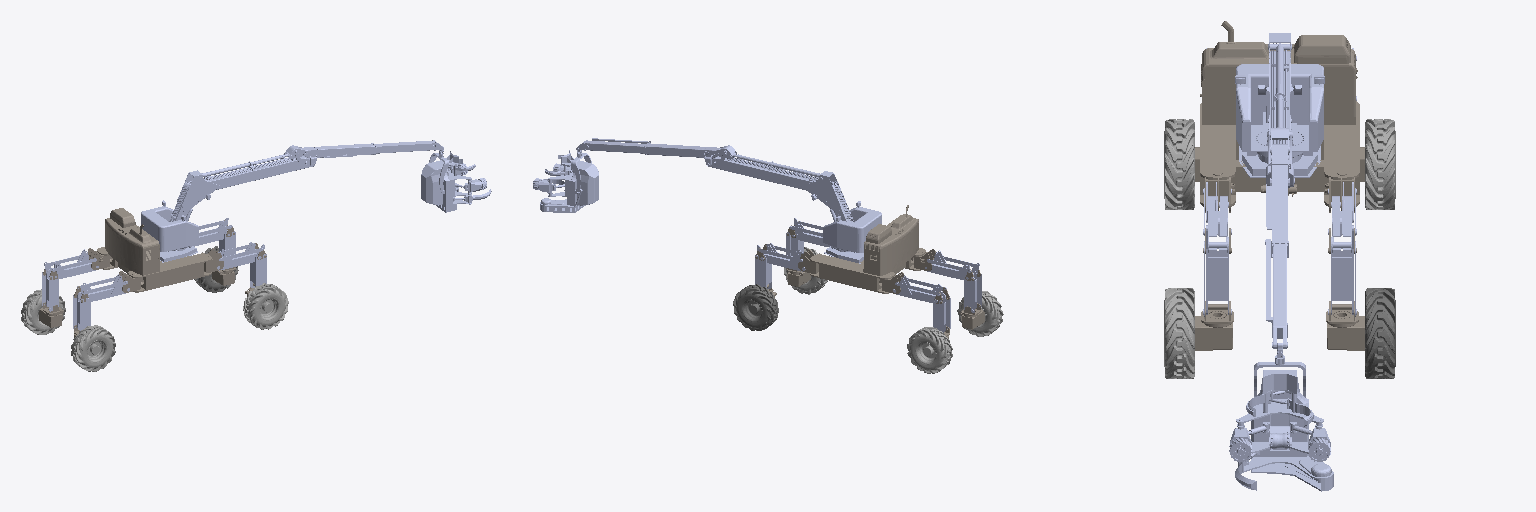
--- Facts derived from the render (not from the file) ---
3 views of the same robot in one strip: view 1: azimuth 30°, elevation 25°; view 2: azimuth 150°, elevation 25°; view 3: azimuth 270°, elevation 25° (orthographic).
Robot: forestry_description — 55 links, 54 joints (47 revolute, 4 continuous, 1 prismatic, 2 fixed); root link world; default pose: all joints at 0.
Links seen in each view (by area): view 1: base_link, boom_Link, tool_Link, turntable_Link, FR5, RR5, RL5, s_boom_Link, s_arm_Link; view 2: base_link, boom_Link, tool_Link, turntable_Link, RL5, FL5, RR5, s_boom_Link, s_arm_Link; view 3: base_link, tool_Link, turntable_Link, FR5, FL5, RL5, RR5, boom_Link, s_boom_Link, s_arm_Link, FR3, FL3 (+7 smaller).
Boxes of the visible links, x1=… form: base_link: x1=97, y1=208, x2=211, y2=292; boom_Link: x1=169, y1=145, x2=314, y2=221; tool_Link: x1=421, y1=151, x2=491, y2=212; turntable_Link: x1=141, y1=200, x2=198, y2=251; FR5: x1=243, y1=283, x2=288, y2=329; RR5: x1=71, y1=325, x2=115, y2=371; RL5: x1=21, y1=289, x2=65, y2=334; s_boom_Link: x1=300, y1=143, x2=378, y2=166; s_arm_Link: x1=375, y1=140, x2=443, y2=153; base_link: x1=810, y1=205, x2=925, y2=293; boom_Link: x1=707, y1=145, x2=853, y2=222; tool_Link: x1=533, y1=150, x2=598, y2=212; turntable_Link: x1=823, y1=200, x2=881, y2=252; RL5: x1=907, y1=327, x2=952, y2=373; FL5: x1=733, y1=284, x2=778, y2=330; RR5: x1=957, y1=291, x2=1003, y2=336; s_boom_Link: x1=644, y1=141, x2=720, y2=166; s_arm_Link: x1=576, y1=138, x2=650, y2=153; base_link: x1=1200, y1=21, x2=1359, y2=207; tool_Link: x1=1229, y1=370, x2=1333, y2=491; turntable_Link: x1=1235, y1=64, x2=1324, y2=151; FR5: x1=1164, y1=288, x2=1194, y2=378; FL5: x1=1365, y1=288, x2=1395, y2=378; RL5: x1=1365, y1=119, x2=1395, y2=209; RR5: x1=1164, y1=119, x2=1194, y2=209; boom_Link: x1=1258, y1=33, x2=1301, y2=187; s_boom_Link: x1=1265, y1=144, x2=1293, y2=257; s_arm_Link: x1=1266, y1=239, x2=1287, y2=348; FR3: x1=1204, y1=225, x2=1228, y2=314; FL3: x1=1331, y1=225, x2=1355, y2=314.
Bounding box of the posed robot: 14.77 × 3.4 × 4.82 m (x, y, z).
54 mesh visuals loaded from 54 distinct referenced files (54 binary STL).

URDF robot description (forestry_description):
<?xml version="1.0" encoding="utf-8"?>
<!-- This URDF was automatically created by SolidWorks to URDF Exporter! Originally created by Stephen Brawner ([email redacted]) 
     Commit Version: 1.5.1-0-g916b5db  Build Version: 1.5.7152.31018
     For more information, please see http://wiki.ros.org/sw_urdf_exporter -->
<robot
  name="forestry_description">

  <link name="world" />
  
  <link
    name="base_link">
    <inertial>
      <origin
        xyz="-0.54031917901198 0.00109713101080256 0.33647383677463"
        rpy="0 0 0" />
      <mass
        value="4741.94930567749" />
      <inertia
        ixx="2748.1155050838"
        ixy="-2.93102873529126"
        ixz="4.3176272224981"
        iyy="2245.24102293317"
        iyz="-12.8937323800502"
        izz="4571.24460469902" />
    </inertial>
    <visual>
      <origin
        xyz="0 0 0"
        rpy="0 0 0" />
      <geometry>
        <mesh
          filename="package://forestry_description/meshes/base_link.STL" />
      </geometry>
      <material
        name="">
        <color
          rgba="0.650980392156863 0.619607843137255 0.588235294117647 1" />
      </material>
    </visual>
    <collision>
      <origin
        xyz="0 0 0"
        rpy="0 0 0" />
      <geometry>
        <mesh
          filename="package://forestry_description/meshes/base_link.STL" />
      </geometry>
    </collision>
  </link>


  <joint name="world_to_base" type="fixed">
    <parent link="world" />
    <child link="base_link" />
  </joint>



  <link
    name="FR1">
    <inertial>
      <origin
        xyz="0.128459885744936 0.00404827021732312 0.0225620718217145"
        rpy="0 0 0" />
      <mass
        value="184.045000703748" />
      <inertia
        ixx="6.76503431022354"
        ixy="-0.0457434022888719"
        ixz="-0.514591277300397"
        iyy="7.97145218183556"
        iyz="-0.0383922185966743"
        izz="7.5357686897527" />
    </inertial>
    <visual>
      <origin
        xyz="0 0 0"
        rpy="0 0 0" />
      <geometry>
        <mesh
          filename="package://forestry_description/meshes/FR1.STL" />
      </geometry>
      <material
        name="">
        <color
          rgba="0.650980392156863 0.619607843137255 0.588235294117647 1" />
      </material>
    </visual>
    <collision>
      <origin
        xyz="0 0 0"
        rpy="0 0 0" />
      <geometry>
        <mesh
          filename="package://forestry_description/meshes/FR1.STL" />
      </geometry>
    </collision>
  </link>
  <joint
    name="FRJ1"
    type="revolute">
    <origin
      xyz="0.94 -0.9125 0.2"
      rpy="0 0 0" />
    <parent
      link="base_link" />
    <child
      link="FR1" />
    <axis
      xyz="0 0 1" />
    <limit
      lower="-0.785398"
      upper="0.5235987"
      effort="0"
      velocity="0" />
  </joint>
  <link
    name="FR2">
    <inertial>
      <origin
        xyz="0.588774137911626 0.040851108568861 0.020284900090472"
        rpy="0 0 0" />
      <mass
        value="36.5845458368152" />
      <inertia
        ixx="1.0087105677874"
        ixy="-0.0947398441532115"
        ixz="0.263965807523486"
        iyy="7.61553593486858"
        iyz="-0.0240436699181846"
        izz="7.61601085721198" />
    </inertial>
    <visual>
      <origin
        xyz="0 0 0"
        rpy="0 0 0" />
      <geometry>
        <mesh
          filename="package://forestry_description/meshes/FR2.STL" />
      </geometry>
      <material
        name="">
        <color
          rgba="0.792156862745098 0.819607843137255 0.933333333333333 1" />
      </material>
    </visual>
    <collision>
      <origin
        xyz="0 0 0"
        rpy="0 0 0" />
      <geometry>
        <mesh
          filename="package://forestry_description/meshes/FR2.STL" />
      </geometry>
    </collision>
  </link>
  <joint
    name="FRJ2"
    type="revolute">
    <origin
      xyz="0.3 0.01 -0.11"
      rpy="1.5708 0 0" />
    <parent
      link="FR1" />
    <child
      link="FR2" />
    <axis
      xyz="0 0 1" />
    <limit
      lower="-0.9599308"
      upper="0.9599308"
      effort="0"
      velocity="0" />
  </joint>
  <link
    name="FR3">
    <inertial>
      <origin
        xyz="0.00356383701771801 -0.427150481599804 0.00435955283819156"
        rpy="0 0 0" />
      <mass
        value="22.9329517084687" />
      <inertia
        ixx="2.1622683407372"
        ixy="-0.0522323144372039"
        ixz="1.8153638825174E-18"
        iyy="0.164045827211877"
        iyz="-7.52108575078556E-17"
        izz="2.13893902934875" />
    </inertial>
    <visual>
      <origin
        xyz="0 0 0"
        rpy="0 0 0" />
      <geometry>
        <mesh
          filename="package://forestry_description/meshes/FR3.STL" />
      </geometry>
      <material
        name="">
        <color
          rgba="0.792156862745098 0.819607843137255 0.933333333333333 1" />
      </material>
    </visual>
    <collision>
      <origin
        xyz="0 0 0"
        rpy="0 0 0" />
      <geometry>
        <mesh
          filename="package://forestry_description/meshes/FR3.STL" />
      </geometry>
    </collision>
  </link>
  <joint
    name="FRJ3"
    type="revolute">
    <origin
      xyz="1.4 0 0.0125"
      rpy="0 0 0" />
    <parent
      link="FR2" />
    <child
      link="FR3" />
    <axis
      xyz="0 0 1" />
    <limit
      lower="-0.9599308"
      upper="0.9599308"
      effort="0"
      velocity="0" />
  </joint>
  <link
    name="FR4_1">
    <inertial>
      <origin
        xyz="2.97539770599542E-14 -1.38333788868295E-13 0.00616336110124471"
        rpy="0 0 0" />
      <mass
        value="16.5024333560923" />
      <inertia
        ixx="0.244638564571836"
        ixy="-4.7757941027684E-18"
        ixz="9.54943185721751E-18"
        iyy="0.244638564571836"
        iyz="-1.90772089049017E-17"
        izz="0.0139877069681215" />
    </inertial>
    <visual>
      <origin
        xyz="0 0 0"
        rpy="0 0 0" />
      <geometry>
        <mesh
          filename="package://forestry_description/meshes/FR4_1.STL" />
      </geometry>
      <material
        name="">
        <color
          rgba="0.650980392156863 0.619607843137255 0.588235294117647 1" />
      </material>
    </visual>
    <collision>
      <origin
        xyz="0 0 0"
        rpy="0 0 0" />
      <geometry>
        <mesh
          filename="package://forestry_description/meshes/FR4_1.STL" />
      </geometry>
    </collision>
  </link>
  <joint
    name="FRJ4_1"
    type="revolute">
    <origin
      xyz="0 -1 0"
      rpy="0 0 0" />
    <parent
      link="FR3" />
    <child
      link="FR4_1" />
    <axis
      xyz="0 0 1" />
    <limit
      lower="-3.141592"
      upper="3.141592"
      effort="0"
      velocity="0" />
    <mimic
      joint="FRJ2"
      multiplier="-1"
      offset="0" />
  </joint>
  <link
    name="FR4_2">
    <inertial>
      <origin
        xyz="0.0359094474413499 -0.125594428076551 -0.00249995255871127"
        rpy="0 0 0" />
      <mass
        value="69.3567504787419" />
      <inertia
        ixx="1.77952065402798"
        ixy="-0.0294501237349712"
        ixz="-7.53377464852006E-08"
        iyy="2.57650385607334"
        iyz="1.50333647026858E-07"
        izz="1.23222409349747" />
    </inertial>
    <visual>
      <origin
        xyz="0 0 0"
        rpy="0 0 0" />
      <geometry>
        <mesh
          filename="package://forestry_description/meshes/FR4_2.STL" />
      </geometry>
      <material
        name="">
        <color
          rgba="0.650980392156863 0.619607843137255 0.588235294117647 1" />
      </material>
    </visual>
    <collision>
      <origin
        xyz="0 0 0"
        rpy="0 0 0" />
      <geometry>
        <mesh
          filename="package://forestry_description/meshes/FR4_2.STL" />
      </geometry>
    </collision>
  </link>
  <joint
    name="FRJ4_2"
    type="revolute">
    <origin
      xyz="0 0 0"
      rpy="0 0 0" />
    <parent
      link="FR4_1" />
    <child
      link="FR4_2" />
    <axis
      xyz="0 0 1" />
    <limit
      lower="-3.141592"
      upper="3.141592"
      effort="0"
      velocity="0" />
    <mimic
      joint="FRJ3"
      multiplier="-1"
      offset="0" />
  </joint>
  <link
    name="FR4">
    <inertial>
      <origin
        xyz="-2.72262448142158E-08 -0.149455972163337 -0.242790467699869"
        rpy="0 0 0" />
      <mass
        value="146.80212814284" />
      <inertia
        ixx="7.25648455747012"
        ixy="1.19950491152712E-05"
        ixz="1.42933724785291E-05"
        iyy="6.20788937348665"
        iyz="-0.917764733776497"
        izz="8.18964062902722" />
    </inertial>
    <visual>
      <origin
        xyz="0 0 0"
        rpy="0 0 0" />
      <geometry>
        <mesh
          filename="package://forestry_description/meshes/FR4.STL" />
      </geometry>
      <material
        name="">
        <color
          rgba="0.650980392156863 0.619607843137255 0.588235294117647 1" />
      </material>
    </visual>
    <collision>
      <origin
        xyz="0 0 0"
        rpy="0 0 0" />
      <geometry>
        <mesh
          filename="package://forestry_description/meshes/FR4.STL" />
      </geometry>
    </collision>
  </link>
  <joint
    name="FRJ4"
    type="revolute">
    <origin
      xyz="0 -0.181 -0.0025"
      rpy="-1.5708 0 0" />
    <parent
      link="FR4_2" />
    <child
      link="FR4" />
    <axis
      xyz="0 0 1" />
    <limit
      lower="-3.141592"
      upper="3.141592"
      effort="0"
      velocity="0" />
  </joint>
  <link
    name="FR5">
    <inertial>
      <origin
        xyz="-1.14180807919695E-07 3.80386971832181E-06 0.557212941852296"
        rpy="0 0 0" />
      <mass
        value="143.339707130021" />
      <inertia
        ixx="17.4881909307814"
        ixy="-0.000100415976312996"
        ixz="1.3420319366117E-05"
        iyy="17.4894239618211"
        iyz="-0.000184817041845037"
        izz="30.9106672715801" />
    </inertial>
    <visual>
      <origin
        xyz="0 0 0"
        rpy="0 0 0" />
      <geometry>
        <mesh
          filename="package://forestry_description/meshes/FR5.STL" />
      </geometry>
      <material
        name="">
        <color
          rgba="0.698039215686274 0.698039215686274 0.698039215686274 1" />
      </material>
    </visual>
    <collision>
      <origin
        xyz="0 0 0"
        rpy="0 0 0" />
      <geometry>
        <mesh
          filename="package://forestry_description/meshes/FR5.STL" />
      </geometry>
    </collision>
  </link>
  <joint
    name="FRJ5"
    type="continuous">
    <origin
      xyz="0 0 -0.251"
      rpy="1.5708 0 0" />
    <parent
      link="FR4" />
    <child
      link="FR5" />
    <axis
      xyz="0 0 1" />
  </joint>
  <link
    name="FRB0">
    <inertial>
      <origin
        xyz="0.0806347311700861 0.0873713905316755 -0.00249999999997974"
        rpy="0 0 0" />
      <mass
        value="21.7247820620153" />
      <inertia
        ixx="0.192847221143694"
        ixy="-0.000680393657359608"
        ixz="-3.47620138937201E-19"
        iyy="0.10723046509661"
        iyz="1.11944016006594E-19"
        izz="0.29862936743617" />
    </inertial>
    <visual>
      <origin
        xyz="0 0 0"
        rpy="0 0 0" />
      <geometry>
        <mesh
          filename="package://forestry_description/meshes/FRB0.STL" />
      </geometry>
      <material
        name="">
        <color
          rgba="0.650980392156863 0.619607843137255 0.588235294117647 1" />
      </material>
    </visual>
    <collision>
      <origin
        xyz="0 0 0"
        rpy="0 0 0" />
      <geometry>
        <mesh
          filename="package://forestry_description/meshes/FRB0.STL" />
      </geometry>
    </collision>
  </link>
  <joint
    name="FRBJ0"
    type="revolute">
    <origin
      xyz="1.4 0 0.0125"
      rpy="0 0 0" />
    <parent
      link="FR2" />
    <child
      link="FRB0" />
    <axis
      xyz="0 0 1" />
    <limit
      lower="-3.141592"
      upper="3.141592"
      effort="0"
      velocity="0" />
    <mimic
      joint="FRJ2"
      multiplier="-1"
      offset="0" />
  </joint>
  <link
    name="FRB2">
    <inertial>
      <origin
        xyz="4.44089209850063E-16 -3.6422254101609E-13 5.55111512312578E-16"
        rpy="0 0 0" />
      <mass
        value="1.79252951740625" />
      <inertia
        ixx="0.000729444653066361"
        ixy="-1.33668140794758E-19"
        ixz="8.76295100371585E-21"
        iyy="0.000729444653066361"
        iyz="-2.06022518794996E-20"
        izz="0.00112765869619503" />
    </inertial>
    <visual>
      <origin
        xyz="0 0 0"
        rpy="0 0 0" />
      <geometry>
        <mesh
          filename="package://forestry_description/meshes/FRB2.STL" />
      </geometry>
      <material
        name="">
        <color
          rgba="0.650980392156863 0.619607843137255 0.588235294117647 1" />
      </material>
    </visual>
    <collision>
      <origin
        xyz="0 0 0"
        rpy="0 0 0" />
      <geometry>
        <mesh
          filename="package://forestry_description/meshes/FRB2.STL" />
      </geometry>
    </collision>
  </link>
  <joint
    name="FRBJ2"
    type="revolute">
    <origin
      xyz="0.18 0 -0.0025"
      rpy="0 0 0" />
    <parent
      link="FRB0" />
    <child
      link="FRB2" />
    <axis
      xyz="0 0 -1" />
    <limit
      lower="-3.141592"
      upper="3.141592"
      effort="0"
      velocity="0" />
    <mimic
      joint="FRJ2"
      multiplier="-1"
      offset="0" />
  </joint>
  <link
    name="FRB3">
    <inertial>
      <origin
        xyz="1.73194791841524E-14 -0.53259095871835 -3.33066907387547E-16"
        rpy="0 0 0" />
      <mass
        value="3.50323706641284" />
      <inertia
        ixx="0.330577290856634"
        ixy="-1.82088051843406E-15"
        ixz="-1.52116760345258E-18"
        iyy="0.00622995155935606"
        iyz="-1.2904466190452E-17"
        izz="0.336710465944546" />
    </inertial>
    <visual>
      <origin
        xyz="0 0 0"
        rpy="0 0 0" />
      <geometry>
        <mesh
          filename="package://forestry_description/meshes/FRB3.STL" />
      </geometry>
      <material
        name="">
        <color
          rgba="0.792156862745098 0.819607843137255 0.933333333333333 1" />
      </material>
    </visual>
    <collision>
      <origin
        xyz="0 0 0"
        rpy="0 0 0" />
      <geometry>
        <mesh
          filename="package://forestry_description/meshes/FRB3.STL" />
      </geometry>
    </collision>
  </link>
  <joint
    name="FRBJ3"
    type="revolute">
    <origin
      xyz="0 0 0"
      rpy="0 0 0" />
    <parent
      link="FRB2" />
    <child
      link="FRB3" />
    <axis
      xyz="0 0 -1" />
    <limit
      lower="-3.141592"
      upper="3.141592"
      effort="0"
      velocity="0" />
    <mimic
      joint="FRJ3"
      multiplier="-1"
      offset="0" />
  </joint>
  <link
    name="FRB1">
    <inertial>
      <origin
        xyz="0.700000000000021 5.05151476204446E-15 -1.11022302462516E-16"
        rpy="0 0 0" />
      <mass
        value="3.64822195764989" />
      <inertia
        ixx="0.0034495743277176"
        ixy="5.6941162703032E-16"
        ixz="1.31452628535707E-16"
        iyy="0.564269911870246"
        iyz="-1.85412861086715E-18"
        izz="0.567581904124662" />
    </inertial>
    <visual>
      <origin
        xyz="0 0 0"
        rpy="0 0 0" />
      <geometry>
        <mesh
          filename="package://forestry_description/meshes/FRB1.STL" />
      </geometry>
      <material
        name="">
        <color
          rgba="0.792156862745098 0.819607843137255 0.933333333333333 1" />
      </material>
    </visual>
    <collision>
      <origin
        xyz="0 0 0"
        rpy="0 0 0" />
      <geometry>
        <mesh
          filename="package://forestry_description/meshes/FRB1.STL" />
      </geometry>
    </collision>
  </link>
  <joint
    name="FRBJ1"
    type="revolute">
    <origin
      xyz="0.38 0 0.14"
      rpy="1.5708 0 0" />
    <parent
      link="FR1" />
    <child
      link="FRB1" />
    <axis
      xyz="0 0 1" />
    <limit
      lower="-3.141592"
      upper="3.141592"
      effort="0"
      velocity="0" />
    <mimic
      joint="FRJ2"
      multiplier="1"
      offset="0" />
  </joint>
  <link
    name="FL1">
    <inertial>
      <origin
        xyz="0.128459885744939 -0.00404827021732412 0.0150620718217146"
        rpy="0 0 0" />
      <mass
        value="184.045000703748" />
      <inertia
        ixx="6.76503431022354"
        ixy="0.0457434022888719"
        ixz="-0.514591277300399"
        iyy="7.97145218183556"
        iyz="0.0383922185966734"
        izz="7.5357686897527" />
    </inertial>
    <visual>
      <origin
        xyz="0 0 0"
        rpy="0 0 0" />
      <geometry>
        <mesh
          filename="package://forestry_description/meshes/FL1.STL" />
      </geometry>
      <material
        name="">
        <color
          rgba="0.650980392156863 0.619607843137255 0.588235294117647 1" />
      </material>
    </visual>
    <collision>
      <origin
        xyz="0 0 0"
        rpy="0 0 0" />
      <geometry>
        <mesh
          filename="package://forestry_description/meshes/FL1.STL" />
      </geometry>
    </collision>
  </link>
  <joint
    name="FLJ1"
    type="revolute">
    <origin
      xyz="0.94 0.9125 0.2075"
      rpy="0 0 0" />
    <parent
      link="base_link" />
    <child
      link="FL1" />
    <axis
      xyz="0 0 1" />
    <limit
      lower="-0.5235987"
      upper="0.785398"
      effort="0"
      velocity="0" />
  </joint>
  <link
    name="FL2">
    <inertial>
      <origin
        xyz="0.588774149329061 0.0408511028098 -0.0127848930546968"
        rpy="0 0 0" />
      <mass
        value="36.5845433565166" />
      <inertia
        ixx="1.00871051362826"
        ixy="-0.0947398884847922"
        ixz="-0.26396576144749"
        iyy="7.61553574144829"
        iyz="0.0240436496542899"
        izz="7.61601067928965" />
    </inertial>
    <visual>
      <origin
        xyz="0 0 0"
        rpy="0 0 0" />
      <geometry>
        <mesh
          filename="package://forestry_description/meshes/FL2.STL" />
      </geometry>
      <material
        name="">
        <color
          rgba="0.792156862745098 0.819607843137255 0.933333333333333 1" />
      </material>
    </visual>
    <collision>
      <origin
        xyz="0 0 0"
        rpy="0 0 0" />
      <geometry>
        <mesh
          filename="package://forestry_description/meshes/FL2.STL" />
      </geometry>
    </collision>
  </link>
  <joint
    name="FLJ2"
    type="revolute">
    <origin
      xyz="0.3 -0.0025 -0.1175"
      rpy="1.5708 0 0" />
    <parent
      link="FL1" />
    <child
      link="FL2" />
    <axis
      xyz="0 0 1" />
    <limit
      lower="-0.9599308"
      upper="0.9599308"
      effort="0"
      velocity="0" />
  </joint>
  <link
    name="FL3">
    <inertial>
      <origin
        xyz="0.00356383701772067 -0.427150481599805 -0.00935955283815515"
        rpy="0 0 0" />
      <mass
        value="22.9329517084687" />
      <inertia
        ixx="2.1622683407372"
        ixy="-0.0522323144372039"
        ixz="-4.35739593980413E-19"
        iyy="0.164045827211877"
        iyz="7.80775218895981E-17"
        izz="2.13893902934875" />
    </inertial>
    <visual>
      <origin
        xyz="0 0 0"
        rpy="0 0 0" />
      <geometry>
        <mesh
          filename="package://forestry_description/meshes/FL3.STL" />
      </geometry>
      <material
        name="">
        <color
          rgba="0.792156862745098 0.819607843137255 0.933333333333333 1" />
      </material>
    </visual>
    <collision>
      <origin
        xyz="0 0 0"
        rpy="0 0 0" />
      <geometry>
        <mesh
          filename="package://forestry_description/meshes/FL3.STL" />
      </geometry>
    </collision>
  </link>
  <joint
    name="FLJ3"
    type="revolute">
    <origin
      xyz="1.4 0 0"
      rpy="0 0 0" />
    <parent
      link="FL2" />
    <child
      link="FL3" />
    <axis
      xyz="0 0 1" /> 
    <limit
      lower="-0.9599308"
      upper="0.9599308"
      effort="0"
      velocity="0" />
  </joint>
  <link
    name="FL4_1">
    <inertial>
      <origin
        xyz="2.93098878501041E-14 -1.41997524849558E-13 -0.0111633611012258"
        rpy="0 0 0" />
      <mass
        value="16.5024333560923" />
      <inertia
        ixx="0.244638564571836"
        ixy="-7.97905036313519E-20"
        ixz="-3.57261530538246E-18"
        iyy="0.244638564571836"
        iyz="1.25282877441871E-17"
        izz="0.0139877069681215" />
    </inertial>
    <visual>
      <origin
        xyz="0 0 0"
        rpy="0 0 0" />
      <geometry>
        <mesh
          filename="package://forestry_description/meshes/FL4_1.STL" />
      </geometry>
      <material
        name="">
        <color
          rgba="0.650980392156863 0.619607843137255 0.588235294117647 1" />
      </material>
    </visual>
    <collision>
      <origin
        xyz="0 0 0"
        rpy="0 0 0" />
      <geometry>
        <mesh
          filename="package://forestry_description/meshes/FL4_1.STL" />
      </geometry>
    </collision>
  </link>
  <joint
    name="FLJ4_1"
    type="revolute">
    <origin
      xyz="0 -1 0"
      rpy="0 0 0" />
    <parent
      link="FL3" />
    <child
      link="FL4_1" />
    <axis
      xyz="0 0 1" /> 
    <limit
      lower="-3.141592"
      upper="3.141592"
      effort="0"
      velocity="0" />
    <mimic
      joint="FLJ2"
      multiplier="-1"
      offset="0" />
  </joint>
  <link
    name="FL4_2">
    <inertial>
      <origin
        xyz="0.0359091607517366 -0.125594578063898 -0.00249986817515291"
        rpy="0 0 0" />
      <mass
        value="69.3567064226713" />
      <inertia
        ixx="1.77951824920781"
        ixy="-0.0294501684033453"
        ixz="5.97820825268491E-08"
        iyy="2.57650177263851"
        iyz="-2.72198544186524E-07"
        izz="1.23222433067319" />
    </inertial>
    <visual>
      <origin
        xyz="0 0 0"
        rpy="0 0 0" />
      <geometry>
        <mesh
          filename="package://forestry_description/meshes/FL4_2.STL" />
      </geometry>
      <material
        name="">
        <color
          rgba="0.650980392156863 0.619607843137255 0.588235294117647 1" />
      </material>
    </visual>
    <collision>
      <origin
        xyz="0 0 0"
        rpy="0 0 0" />
      <geometry>
        <mesh
          filename="package://forestry_description/meshes/FL4_2.STL" />
      </geometry>
    </collision>
  </link>
  <joint
    name="FLJ4_2"
    type="revolute">
    <origin
      xyz="0 0 0"
      rpy="0 0 0" />
    <parent
      link="FL4_1" />
    <child
      link="FL4_2" />
    <axis
      xyz="0 0 1" /> 
    <limit
      lower="-3.141592"
      upper="3.141592"
      effort="0"
      velocity="0" />
    <mimic
      joint="FLJ3"
      multiplier="-1"
      offset="0" />
  </joint>
  <link
    name="FL4">
    <inertial>
      <origin
        xyz="3.0246844584525E-08 0.149453496690673 -0.237790418569519"
        rpy="0 0 0" />
      <mass
        value="146.801539980925" />
      <inertia
        ixx="7.25645441050801"
        ixy="1.5578992692465E-05"
        ixz="-1.39670059391026E-05"
        iyy="6.20786909809727"
        iyz="0.917759855227298"
        izz="8.18959988104353" />
    </inertial>
    <visual>
      <origin
        xyz="0 0 0"
        rpy="0 0 0" />
      <geometry>
        <mesh
          filename="package://forestry_description/meshes/FL4.STL" />
      </geometry>
      <material
        name="">
        <color
          rgba="0.650980392156863 0.619607843137255 0.588235294117647 1" />
      </material>
    </visual>
    <collision>
      <origin
        xyz="0 0 0"
        rpy="0 0 0" />
      <geometry>
        <mesh
          filename="package://forestry_description/meshes/FL4.STL" />
      </geometry>
    </collision>
  </link>
  <joint
    name="FLJ4"
    type="revolute">
    <origin
      xyz="0 -0.186 -0.0025"
      rpy="-1.5708 0 0" />
    <parent
      link="FL4_2" />
    <child
      link="FL4" />
    <axis
      xyz="0 0 1" /> 
    <limit
      lower="-3.141592"
      upper="3.141592"
      effort="0"
      velocity="0" />
  </joint>
  <link
    name="FL5">
    <inertial>
      <origin
        xyz="3.15821191421151E-07 1.26238595561379E-05 -0.55781735910767"
        rpy="0 0 0" />
      <mass
        value="436.42578487557" />
      <inertia
        ixx="58.736371608715"
        ixy="-0.000816013262608184"
        ixz="-7.03552793333617E-05"
        iyy="58.7375440299027"
        iyz="-0.0020094130681266"
        izz="104.577777742225" />
    </inertial>
    <visual>
      <origin
        xyz="0 0 0"
        rpy="0 0 0" />
      <geometry>
        <mesh
          filename="package://forestry_description/meshes/FL5.STL" />
      </geometry>
      <material
        name="">
        <color
          rgba="0.498039215686275 0.498039215686275 0.498039215686275 1" />
      </material>
    </visual>
    <collision>
      <origin
        xyz="0 0 0"
        rpy="0 0 0" />
      <geometry>
        <mesh
          filename="package://forestry_description/meshes/FL5.STL" />
      </geometry>
    </collision>
  </link>
  <joint
    name="FLJ5"
    type="continuous">
    <origin
      xyz="0 0 -0.246"
      rpy="1.5708 0 0" />
    <parent
      link="FL4" />
    <child
      link="FL5" />
    <axis
      xyz="0 0 1" />
  </joint>
  <link
    name="FLB0">
    <inertial>
      <origin
        xyz="0.0806347311700861 0.0873713905320268 -0.00249999999998163"
        rpy="0 0 0" />
      <mass
        value="21.7247820620153" />
      <inertia
        ixx="0.192847221143694"
        ixy="-0.000680393657359613"
        ixz="1.39275582245481E-18"
        iyy="0.10723046509661"
        iyz="-3.48543813802891E-19"
        izz="0.29862936743617" />
    </inertial>
    <visual>
      <origin
        xyz="0 0 0"
        rpy="0 0 0" />
      <geometry>
        <mesh
          filename="package://forestry_description/meshes/FLB0.STL" />
      </geometry>
      <material
        name="">
        <color
          rgba="0.650980392156863 0.619607843137255 0.588235294117647 1" />
      </material>
    </visual>
    <collision>
      <origin
        xyz="0 0 0"
        rpy="0 0 0" />
      <geometry>
        <mesh
          filename="package://forestry_description/meshes/FLB0.STL" />
      </geometry>
    </collision>
  </link>
  <joint
    name="FLBJ0"
    type="revolute">
    <origin
      xyz="1.4 0 0"
      rpy="0 0 0" />
    <parent
      link="FL2" />
    <child
      link="FLB0" />
    <axis
      xyz="0 0 1" /> 
    <limit
      lower="-3.141592"
      upper="3.141592"
      effort="0"
      velocity="0" />
    <mimic
      joint="FLJ2"
      multiplier="-1"
      offset="0" />
  </joint>
  <link
    name="FLB2">
    <inertial>
      <origin
        xyz="2.22044604925031E-15 -1.80411241501588E-16 3.33066907387547E-16"
        rpy="0 0 0" />
      <mass
        value="1.79252951740625" />
      <inertia
        ixx="0.000729444653066361"
        ixy="-2.24010976137132E-20"
        ixz="-3.07136726208485E-20"
        iyy="0.000729444653066361"
        iyz="1.41666365653347E-20"
        izz="0.00112765869619503" />
    </inertial>
    <visual>
      <origin
        xyz="0 0 0"
        rpy="0 0 0" />
      <geometry>
        <mesh
          filename="package://forestry_description/meshes/FLB2.STL" />
      </geometry>
      <material
        name="">
        <color
          rgba="0.650980392156863 0.619607843137255 0.588235294117647 1" />
      </material>
    </visual>
    <collision>
      <origin
        xyz="0 0 0"
        rpy="0 0 0" />
      <geometry>
        <mesh
          filename="package://forestry_description/meshes/FLB2.STL" />
      </geometry>
    </collision>
  </link>
  <joint
    name="FLBJ2"
    type="revolute">
    <origin
      xyz="0.18 0 -0.0025"
      rpy="0 0 0" />
    <parent
      link="FLB0" />
    <child
      link="FLB2" />
    <axis
      xyz="0 0 -1" /> 
    <limit
      lower="-3.141592"
      upper="3.141592"
      effort="0"
      velocity="0" />
    <mimic
      joint="FLJ2"
      multiplier="-1"
      offset="0" />
  </joint>
  <link
    name="FLB3">
    <inertial>
      <origin
        xyz="5.77315972805081E-15 -0.532590958718287 3.33066907387547E-16"
        rpy="0 0 0" />
      <mass
        value="3.50323706641283" />
      <inertia
        ixx="0.330577290856633"
        ixy="-1.79987057360272E-15"
        ixz="8.43009342773682E-19"
        iyy="0.00622995155935608"
        iyz="-7.74513383681749E-18"
        izz="0.336710465944545" />
    </inertial>
    <visual>
      <origin
        xyz="0 0 0"
        rpy="0 0 0" />
      <geometry>
        <mesh
          filename="package://forestry_description/meshes/FLB3.STL" />
      </geometry>
      <material
        name="">
        <color
          rgba="0.792156862745098 0.819607843137255 0.933333333333333 1" />
      </material>
    </visual>
    <collision>
      <origin
        xyz="0 0 0"
        rpy="0 0 0" />
      <geometry>
        <mesh
          filename="package://forestry_description/meshes/FLB3.STL" />
      </geometry>
    </collision>
  </link>
  <joint
    name="FLBJ3"
    type="revolute">
    <origin
      xyz="0 0 0"
      rpy="0 0 0" />
    <parent
      link="FLB2" />
    <child
      link="FLB3" />
    <axis
      xyz="0 0 -1" /> 
    <limit
      lower="-3.141592"
      upper="3.141592"
      effort="0"
      velocity="0" />
    <mimic
      joint="FLJ3"
      multiplier="-1"
      offset="0" />
  </joint>
  <link
    name="FLB1">
    <inertial>
      <origin
        xyz="0.700000000000001 4.9960036108132E-16 7.7715611723761E-16"
        rpy="0 0 0" />
      <mass
        value="3.64822195764989" />
      <inertia
        ixx="0.00344957432771761"
        ixy="5.48950953835021E-16"
        ixz="1.3276491411171E-16"
        iyy="0.564269911870246"
        iyz="-4.12063437069308E-19"
        izz="0.567581904124661" />
    </inertial>
    <visual>
      <origin
        xyz="0 0 0"
        rpy="0 0 0" />
      <geometry>
        <mesh
          filename="package://forestry_description/meshes/FLB1.STL" />
      </geometry>
      <material
        name="">
        <color
          rgba="0.792156862745098 0.819607843137255 0.933333333333333 1" />
      </material>
    </visual>
    <collision>
      <origin
        xyz="0 0 0"
        rpy="0 0 0" />
      <geometry>
        <mesh
          filename="package://forestry_description/meshes/FLB1.STL" />
      </geometry>
    </collision>
  </link>
  <joint
    name="FLBJ1"
    type="revolute">
    <origin
      xyz="0.38 0 0.1325"
      rpy="1.5708 0 0" />
    <parent
      link="FL1" />
    <child
      link="FLB1" />
    <axis
      xyz="0 0 -1" /> 
    <limit
      lower="-3.141592"
      upper="3.141592"
      effort="0"
      velocity="0" />
    <mimic
      joint="FLJ2"
      multiplier="-1"
      offset="0" />
  </joint>
  <link
    name="RR1">
    <inertial>
      <origin
        xyz="-0.128459885744939 0.00404827021732379 0.0225620718217157"
        rpy="0 0 0" />
      <mass
        value="184.045000703749" />
      <inertia
        ixx="6.76503431022354"
        ixy="0.0457434022888696"
        ixz="0.514591277300399"
        iyy="7.97145218183557"
        iyz="-0.0383922185966735"
        izz="7.5357686897527" />
    </inertial>
    <visual>
      <origin
        xyz="0 0 0"
        rpy="0 0 0" />
      <geometry>
        <mesh
          filename="package://forestry_description/meshes/RR1.STL" />
      </geometry>
      <material
        name="">
        <color
          rgba="0.650980392156863 0.619607843137255 0.588235294117647 1" />
      </material>
    </visual>
    <collision>
      <origin
        xyz="0 0 0"
        rpy="0 0 0" />
      <geometry>
        <mesh
          filename="package://forestry_description/meshes/RR1.STL" />
      </geometry>
    </collision>
  </link>
  <joint
    name="RRJ1"
    type="revolute">
    <origin
      xyz="-1.51 -0.9125 0.2"
      rpy="0 0 0" />
    <parent
      link="base_link" />
    <child
      link="RR1" />
    <axis
      xyz="0 0 1" /> 
    <limit
      lower="-0.5235987"
      upper="0.785398"
      effort="0"
      velocity="0" />
  </joint>
  <link
    name="RR2">
    <inertial>
      <origin
        xyz="-0.588774149329061 0.0408511028098014 0.0127848930546967"
        rpy="0 0 0" />
      <mass
        value="36.5845433565165" />
      <inertia
        ixx="1.00871051362826"
        ixy="0.0947398884847944"
        ixz="-0.263965761447491"
        iyy="7.61553574144828"
        iyz="-0.0240436496542896"
        izz="7.61601067928964" />
    </inertial>
    <visual>
      <origin
        xyz="0 0 0"
        rpy="0 0 0" />
      <geometry>
        <mesh
          filename="package://forestry_description/meshes/RR2.STL" />
      </geometry>
      <material
        name="">
        <color
          rgba="0.792156862745098 0.819607843137255 0.933333333333333 1" />
      </material>
    </visual>
    <collision>
      <origin
        xyz="0 0 0"
        rpy="0 0 0" />
      <geometry>
        <mesh
          filename="package://forestry_description/meshes/RR2.STL" />
      </geometry>
    </collision>
  </link>
  <joint
    name="RRJ2"
    type="revolute">
    <origin
      xyz="-0.3 0.0025 -0.11"
      rpy="1.5708 0 0" />
    <parent
      link="RR1" />
    <child
      link="RR2" />
    <axis
      xyz="0 0 1" /> 
    <limit
      lower="-0.9599308"
      upper="0.9599308"
      effort="0"
      velocity="0" />
  </joint>
  <link
    name="RR3">
    <inertial>
      <origin
        xyz="-0.00356383701772245 -0.427150481599803 0.00935955283815515"
        rpy="0 0 0" />
      <mass
        value="22.9329517084689" />
      <inertia
        ixx="2.16226834073721"
        ixy="0.0522323144372041"
        ixz="-7.51602542573697E-19"
        iyy="0.164045827211879"
        iyz="-7.68937945734984E-17"
        izz="2.13893902934876" />
    </inertial>
    <visual>
      <origin
        xyz="0 0 0"
        rpy="0 0 0" />
      <geometry>
        <mesh
          filename="package://forestry_description/meshes/RR3.STL" />
      </geometry>
      <material
        name="">
        <color
          rgba="0.792156862745098 0.819607843137255 0.933333333333333 1" />
      </material>
    </visual>
    <collision>
      <origin
        xyz="0 0 0"
        rpy="0 0 0" />
      <geometry>
        <mesh
          filename="package://forestry_description/meshes/RR3.STL" />
      </geometry>
    </collision>
  </link>
  <joint
    name="RRJ3"
    type="revolute">
    <origin
      xyz="-1.4 0 0"
      rpy="0 0 0" />
    <parent
      link="RR2" />
    <child
      link="RR3" />
    <axis
      xyz="0 0 1" /> 
    <limit
      lower="-0.9599308"
      upper="0.9599308"
      effort="0"
      velocity="0" />
  </joint>
  <link
    name="RR4_1">
    <inertial>
      <origin
        xyz="-3.10862446895044E-14 -1.38666855775682E-13 0.0111633611012182"
        rpy="0 0 0" />
      <mass
        value="16.5024333560923" />
      <inertia
        ixx="0.244638564571836"
        ixy="7.9790503631352E-20"
        ixz="-3.57261530538246E-18"
        iyy="0.244638564571836"
        iyz="-1.25282877441871E-17"
        izz="0.0139877069681215" />
    </inertial>
    <visual>
      <origin
        xyz="0 0 0"
        rpy="0 0 0" />
      <geometry>
        <mesh
          filename="package://forestry_description/meshes/RR4_1.STL" />
      </geometry>
      <material
        name="">
        <color
          rgba="0.650980392156863 0.619607843137255 0.588235294117647 1" />
      </material>
    </visual>
    <collision>
      <origin
        xyz="0 0 0"
        rpy="0 0 0" />
      <geometry>
        <mesh
          filename="package://forestry_description/meshes/RR4_1.STL" />
      </geometry>
    </collision>
  </link>
  <joint
    name="RRJ4_1"
    type="revolute">
    <origin
      xyz="0 -1 0"
      rpy="0 0 0" />
    <parent
      link="RR3" />
    <child
      link="RR4_1" />
    <axis
      xyz="0 0 1" /> 
    <limit
      lower="-3.141592"
      upper="3.141592"
      effort="0"
      velocity="0" />
    <mimic
      joint="RRJ2"
      multiplier="-1"
      offset="0" />
  </joint>
  <link
    name="RR4_2">
    <inertial>
      <origin
        xyz="-0.0359091607517379 -0.125594578063893 0.00249986817514558"
        rpy="0 0 0" />
      <mass
        value="69.3567064226714" />
      <inertia
        ixx="1.77951824920781"
        ixy="0.0294501684033658"
        ixz="5.9782083421565E-08"
        iyy="2.57650177263851"
        iyz="2.72198544681528E-07"
        izz="1.23222433067319" />
    </inertial>
    <visual>
      <origin
        xyz="0 0 0"
        rpy="0 0 0" />
      <geometry>
        <mesh
          filename="package://forestry_description/meshes/RR4_2.STL" />
      </geometry>
      <material
        name="">
        <color
          rgba="0.650980392156863 0.619607843137255 0.588235294117647 1" />
      </material>
    </visual>
    <collision>
      <origin
        xyz="0 0 0"
        rpy="0 0 0" />
      <geometry>
        <mesh
          filename="package://forestry_description/meshes/RR4_2.STL" />
      </geometry>
    </collision>
  </link>
  <joint
    name="RRJ4_2"
    type="revolute">
    <origin
      xyz="0 0 0"
      rpy="0 0 0" />
    <parent
      link="RR4_1" />
    <child
      link="RR4_2" />
    <axis
      xyz="0 0 1" /> 
    <limit
      lower="-3.141592"
      upper="3.141592"
      effort="0"
      velocity="0" />
    <mimic
      joint="RRJ3"
      multiplier="-1"
      offset="0" />
  </joint>
  <link
    name="RR4">
    <inertial>
      <origin
        xyz="-3.02467926260874E-08 -0.149453496690663 -0.230290418569618"
        rpy="0 0 0" />
      <mass
        value="146.801539980925" />
      <inertia
        ixx="7.25645441050801"
        ixy="1.55789924592611E-05"
        ixz="1.39670062205981E-05"
        iyy="6.20786909809725"
        iyz="-0.917759855227309"
        izz="8.18959988104351" />
    </inertial>
    <visual>
      <origin
        xyz="0 0 0"
        rpy="0 0 0" />
      <geometry>
        <mesh
          filename="package://forestry_description/meshes/RR4.STL" />
      </geometry>
      <material
        name="">
        <color
          rgba="0.650980392156863 0.619607843137255 0.588235294117647 1" />
      </material>
    </visual>
    <collision>
      <origin
        xyz="0 0 0"
        rpy="0 0 0" />
      <geometry>
        <mesh
          filename="package://forestry_description/meshes/RR4.STL" />
      </geometry>
    </collision>
  </link>
  <joint
    name="RRJ4"
    type="revolute">
    <origin
      xyz="0 -0.1935 0.0025"
      rpy="-1.5708 0 0" />
    <parent
      link="RR4_2" />
    <child
      link="RR4" />
    <axis
      xyz="0 0 1" /> 
    <limit
      lower="-3.141592"
      upper="3.141592"
      effort="0"
      velocity="0" />
  </joint>
  <link
    name="RR5">
    <inertial>
      <origin
        xyz="-3.15934655770178E-07 1.26237352975345E-05 0.55781735910992"
        rpy="0 0 0" />
      <mass
        value="436.425785007827" />
      <inertia
        ixx="58.7363716356569"
        ixy="0.000816001465151365"
        ixz="-7.03563477497343E-05"
        iyy="58.7375440356666"
        iyz="0.00200941296449644"
        izz="104.577777775049" />
    </inertial>
    <visual>
      <origin
        xyz="0 0 0"
        rpy="0 0 0" />
      <geometry>
        <mesh
          filename="package://forestry_description/meshes/RR5.STL" />
      </geometry>
      <material
        name="">
        <color
          rgba="0.698039215686274 0.698039215686274 0.698039215686274 1" />
      </material>
    </visual>
    <collision>
      <origin
        xyz="0 0 0"
        rpy="0 0 0" />
      <geometry>
        <mesh
          filename="package://forestry_description/meshes/RR5.STL" />
      </geometry>
    </collision>
  </link>
  <joint
    name="RRJ5"
    type="continuous">
    <origin
      xyz="0 0 -0.2385"
      rpy="1.5708 0 0" />
    <parent
      link="RR4" />
    <child
      link="RR5" />
    <axis
      xyz="0 0 1" />
  </joint>
  <link
    name="RRB0">
    <inertial>
      <origin
        xyz="-0.0806347311700222 0.087371390531422 0.00249999999998152"
        rpy="0 0 0" />
      <mass
        value="21.7247820620153" />
      <inertia
        ixx="0.192847221143694"
        ixy="0.000680393657359611"
        ixz="1.39329185348751E-18"
        iyy="0.10723046509661"
        iyz="3.5527784867202E-19"
        izz="0.29862936743617" />
    </inertial>
    <visual>
      <origin
        xyz="0 0 0"
        rpy="0 0 0" />
      <geometry>
        <mesh
          filename="package://forestry_description/meshes/RRB0.STL" />
      </geometry>
      <material
        name="">
        <color
          rgba="0.650980392156863 0.619607843137255 0.588235294117647 1" />
      </material>
    </visual>
    <collision>
      <origin
        xyz="0 0 0"
        rpy="0 0 0" />
      <geometry>
        <mesh
          filename="package://forestry_description/meshes/RRB0.STL" />
      </geometry>
    </collision>
  </link>
  <joint
    name="RRBJ0"
    type="revolute">
    <origin
      xyz="-1.4 0 0"
      rpy="0 0 0" />
    <parent
      link="RR2" />
    <child
      link="RRB0" />
    <axis
      xyz="0 0 -1" /> 
    <limit
      lower="-3.141592"
      upper="3.141592"
      effort="0"
      velocity="0" />
    <mimic
      joint="RRJ2"
      multiplier="1"
      offset="0" />
  </joint>
  <link
    name="RRB2">
    <inertial>
      <origin
        xyz="-1.11466391672366E-13 5.48727729920984E-14 -4.44089209850063E-16"
        rpy="0 0 0" />
      <mass
        value="1.79252951740625" />
      <inertia
        ixx="0.00072944465306636"
        ixy="2.24010976137132E-20"
        ixz="-3.07136726208485E-20"
        iyy="0.000729444653066361"
        iyz="-1.41666365653347E-20"
        izz="0.00112765869619503" />
    </inertial>
    <visual>
      <origin
        xyz="0 0 0"
        rpy="0 0 0" />
      <geometry>
        <mesh
          filename="package://forestry_description/meshes/RRB2.STL" />
      </geometry>
      <material
        name="">
        <color
          rgba="0.650980392156863 0.619607843137255 0.588235294117647 1" />
      </material>
    </visual>
    <collision>
      <origin
        xyz="0 0 0"
        rpy="0 0 0" />
      <geometry>
        <mesh
          filename="package://forestry_description/meshes/RRB2.STL" />
      </geometry>
    </collision>
  </link>
  <joint
    name="RRBJ2"
    type="revolute">
    <origin
      xyz="-0.18 0 0.0025"
      rpy="0 0 0" />
    <parent
      link="RRB0" />
    <child
      link="RRB2" />
    <axis
      xyz="0 0 1" /> 
    <limit
      lower="-3.141592"
      upper="3.141592"
      effort="0"
      velocity="0" />
    <mimic
      joint="RRJ2"
      multiplier="1"
      offset="0" />
  </joint>
  <link
    name="RRB3">
    <inertial>
      <origin
        xyz="-6.79456491070596E-14 -0.532590958718266 -1.11022302462516E-15"
        rpy="0 0 0" />
      <mass
        value="3.50323706641282" />
      <inertia
        ixx="0.330577290856632"
        ixy="-3.16587034365769E-17"
        ixz="1.45238383624763E-18"
        iyy="0.00622995155935604"
        iyz="-5.71015869749447E-18"
        izz="0.336710465944543" />
    </inertial>
    <visual>
      <origin
        xyz="0 0 0"
        rpy="0 0 0" />
      <geometry>
        <mesh
          filename="package://forestry_description/meshes/RRB3.STL" />
      </geometry>
      <material
        name="">
        <color
          rgba="0.792156862745098 0.819607843137255 0.933333333333333 1" />
      </material>
    </visual>
    <collision>
      <origin
        xyz="0 0 0"
        rpy="0 0 0" />
      <geometry>
        <mesh
          filename="package://forestry_description/meshes/RRB3.STL" />
      </geometry>
    </collision>
  </link>
  <joint
    name="RRBJ3"
    type="revolute">
    <origin
      xyz="0 0 0"
      rpy="0 0 0" />
    <parent
      link="RRB2" />
    <child
      link="RRB3" />
    <axis
      xyz="0 0 1" /> 
    <limit
      lower="-3.141592"
      upper="3.141592"
      effort="0"
      velocity="0" />
    <mimic
      joint="RRJ3"
      multiplier="1"
      offset="0" />
  </joint>
  <link
    name="RRB1">
    <inertial>
      <origin
        xyz="-0.700000000000003 -2.77555756156289E-16 -2.66453525910038E-15"
        rpy="0 0 0" />
      <mass
        value="3.64822195764986" />
      <inertia
        ixx="0.00344957432771757"
        ixy="1.05111486949167E-19"
        ixz="1.56278256772788E-19"
        iyy="0.56426991187024"
        iyz="-8.09044468424736E-21"
        izz="0.567581904124655" />
    </inertial>
    <visual>
      <origin
        xyz="0 0 0"
        rpy="0 0 0" />
      <geometry>
        <mesh
          filename="package://forestry_description/meshes/RRB1.STL" />
      </geometry>
      <material
        name="">
        <color
          rgba="0.792156862745098 0.819607843137255 0.933333333333333 1" />
      </material>
    </visual>
    <collision>
      <origin
        xyz="0 0 0"
        rpy="0 0 0" />
      <geometry>
        <mesh
          filename="package://forestry_description/meshes/RRB1.STL" />
      </geometry>
    </collision>
  </link>
  <joint
    name="RRBJ1"
    type="revolute">
    <origin
      xyz="-0.38 0 0.14"
      rpy="1.5708 0 0" />
    <parent
      link="RR1" />
    <child
      link="RRB1" />
    <axis
      xyz="0 0 1" /> 
    <limit
      lower="-3.141592"
      upper="3.141592"
      effort="0"
      velocity="0" />
    <mimic
      joint="RRJ2"
      multiplier="1"
      offset="0" />
  </joint>
  <link
    name="RL1">
    <inertial>
      <origin
        xyz="-0.12845988574494 -0.0040482702173239 0.0225620718217156"
        rpy="0 0 0" />
      <mass
        value="184.045000703749" />
      <inertia
        ixx="6.76503431022355"
        ixy="-0.0457434022888701"
        ixz="0.5145912773004"
        iyy="7.97145218183556"
        iyz="0.0383922185966739"
        izz="7.5357686897527" />
    </inertial>
    <visual>
      <origin
        xyz="0 0 0"
        rpy="0 0 0" />
      <geometry>
        <mesh
          filename="package://forestry_description/meshes/RL1.STL" />
      </geometry>
      <material
        name="">
        <color
          rgba="0.650980392156863 0.619607843137255 0.588235294117647 1" />
      </material>
    </visual>
    <collision>
      <origin
        xyz="0 0 0"
        rpy="0 0 0" />
      <geometry>
        <mesh
          filename="package://forestry_description/meshes/RL1.STL" />
      </geometry>
    </collision>
  </link>
  <joint
    name="RLJ1"
    type="revolute">
    <origin
      xyz="-1.51 0.9125 0.2"
      rpy="0 0 0" />
    <parent
      link="base_link" />
    <child
      link="RL1" />
    <axis
      xyz="0 0 1" />  
    <limit
      lower="-0.785398"
      upper="0.5235987"
      effort="0"
      velocity="0" />
  </joint>
  <link
    name="RL2">
    <inertial>
      <origin
        xyz="-0.588774137911628 0.0408511085688625 -0.00878490009047117"
        rpy="0 0 0" />
      <mass
        value="36.5845458368152" />
      <inertia
        ixx="1.0087105677874"
        ixy="0.0947398441532105"
        ixz="0.263965807523487"
        iyy="7.61553593486857"
        iyz="0.0240436699181853"
        izz="7.61601085721197" />
    </inertial>
    <visual>
      <origin
        xyz="0 0 0"
        rpy="0 0 0" />
      <geometry>
        <mesh
          filename="package://forestry_description/meshes/RL2.STL" />
      </geometry>
      <material
        name="">
        <color
          rgba="0.792156862745098 0.819607843137255 0.933333333333333 1" />
      </material>
    </visual>
    <collision>
      <origin
        xyz="0 0 0"
        rpy="0 0 0" />
      <geometry>
        <mesh
          filename="package://forestry_description/meshes/RL2.STL" />
      </geometry>
    </collision>
  </link>
  <joint
    name="RLJ2"
    type="revolute">
    <origin
      xyz="-0.3 0.0015 -0.11"
      rpy="1.5708 0 0" />
    <parent
      link="RL1" />
    <child
      link="RL2" />
    <axis
      xyz="0 0 1" /> 
    <limit
      lower="-0.9599308"
      upper="0.9599308"
      effort="0"
      velocity="0" />
  </joint>
  <link
    name="RL3">
    <inertial>
      <origin
        xyz="-0.00356383701772245 -0.427150481599803 -0.0168595528381908"
        rpy="0 0 0" />
      <mass
        value="22.9329517084689" />
      <inertia
        ixx="2.16226834073721"
        ixy="0.0522323144372041"
        ixz="1.27484774867109E-18"
        iyy="0.164045827211879"
        iyz="7.64652536413925E-17"
        izz="2.13893902934876" />
    </inertial>
    <visual>
      <origin
        xyz="0 0 0"
        rpy="0 0 0" />
      <geometry>
        <mesh
          filename="package://forestry_description/meshes/RL3.STL" />
      </geometry>
      <material
        name="">
        <color
          rgba="0.792156862745098 0.819607843137255 0.933333333333333 1" />
      </material>
    </visual>
    <collision>
      <origin
        xyz="0 0 0"
        rpy="0 0 0" />
      <geometry>
        <mesh
          filename="package://forestry_description/meshes/RL3.STL" />
      </geometry>
    </collision>
  </link>
  <joint
    name="RLJ3"
    type="revolute">
    <origin
      xyz="-1.4 0 0.0115"
      rpy="0 0 0" />
    <parent
      link="RL2" />
    <child
      link="RL3" />
    <axis
      xyz="0 0 1" /> 
    <limit
      lower="-0.9599308"
      upper="0.9599308"
      effort="0"
      velocity="0" />
  </joint>
  <link
    name="RL4_1">
    <inertial>
      <origin
        xyz="-3.10862446895044E-14 -1.38888900380607E-13 -0.0186633611012671"
        rpy="0 0 0" />
      <mass
        value="16.5024333560923" />
      <inertia
        ixx="0.244638564571836"
        ixy="5.25453712455653E-18"
        ixz="1.09936871250377E-17"
        iyy="0.244638564571836"
        iyz="2.38948860595821E-17"
        izz="0.0139877069681215" />
    </inertial>
    <visual>
      <origin
        xyz="0 0 0"
        rpy="0 0 0" />
      <geometry>
        <mesh
          filename="package://forestry_description/meshes/RL4_1.STL" />
      </geometry>
      <material
        name="">
        <color
          rgba="0.650980392156863 0.619607843137255 0.588235294117647 1" />
      </material>
    </visual>
    <collision>
      <origin
        xyz="0 0 0"
        rpy="0 0 0" />
      <geometry>
        <mesh
          filename="package://forestry_description/meshes/RL4_1.STL" />
      </geometry>
    </collision>
  </link>
  <joint
    name="RLJ4_1"
    type="revolute">
    <origin
      xyz="0 -1 0"
      rpy="0 0 0" />
    <parent
      link="RL3" />
    <child
      link="RL4_1" />
    <axis
      xyz="0 0 1" /> 
    <limit
      lower="-3.141592"
      upper="3.141592"
      effort="0"
      velocity="0" />
    <mimic
      joint="RLJ2"
      multiplier="-1"
      offset="0" />
  </joint>
  <link
    name="RL4_2">
    <inertial>
      <origin
        xyz="-0.0359094476098796 -0.125594428058867 -0.0100000475769014"
        rpy="0 0 0" />
      <mass
        value="69.3567505547063" />
      <inertia
        ixx="1.77952065529542"
        ixy="0.0294501237029603"
        ixz="-7.67285133522601E-08"
        iyy="2.57650385886908"
        iyz="-1.5035821884041E-07"
        izz="1.23222409507826" />
    </inertial>
    <visual>
      <origin
        xyz="0 0 0"
        rpy="0 0 0" />
      <geometry>
        <mesh
          filename="package://forestry_description/meshes/RL4_2.STL" />
      </geometry>
      <material
        name="">
        <color
          rgba="0.650980392156863 0.619607843137255 0.588235294117647 1" />
      </material>
    </visual>
    <collision>
      <origin
        xyz="0 0 0"
        rpy="0 0 0" />
      <geometry>
        <mesh
          filename="package://forestry_description/meshes/RL4_2.STL" />
      </geometry>
    </collision>
  </link>
  <joint
    name="RLJ4_2"
    type="revolute">
    <origin
      xyz="0 0 0"
      rpy="0 0 0" />
    <parent
      link="RL4_1" />
    <child
      link="RL4_2" />
    <axis
      xyz="0 0 1" /> 
    <limit
      lower="-3.141592"
      upper="3.141592"
      effort="0"
      velocity="0" />
    <mimic
      joint="RLJ3"
      multiplier="-1"
      offset="0" />
  </joint>
  <link
    name="RL4">
    <inertial>
      <origin
        xyz="2.722708547509E-08 0.149455972163335 -0.222790467699517"
        rpy="0 0 0" />
      <mass
        value="146.802128142842" />
      <inertia
        ixx="7.2564845574702"
        ixy="1.19950434607309E-05"
        ixz="-1.42933783501239E-05"
        iyy="6.20788937348672"
        iyz="0.917764733776505"
        izz="8.18964062902728" />
    </inertial>
    <visual>
      <origin
        xyz="0 0 0"
        rpy="0 0 0" />
      <geometry>
        <mesh
          filename="package://forestry_description/meshes/RL4.STL" />
      </geometry>
      <material
        name="">
        <color
          rgba="0.650980392156863 0.619607843137255 0.588235294117647 1" />
      </material>
    </visual>
    <collision>
      <origin
        xyz="0 0 0"
        rpy="0 0 0" />
      <geometry>
        <mesh
          filename="package://forestry_description/meshes/RL4.STL" />
      </geometry>
    </collision>
  </link>
  <joint
    name="RLJ4"
    type="revolute">
    <origin
      xyz="0 -0.201 -0.01"
      rpy="-1.5708 0 0" />
    <parent
      link="RL4_2" />
    <child
      link="RL4" />
    <axis
      xyz="0 0 1" /> 
    <limit
      lower="-3.141592"
      upper="3.141592"
      effort="0"
      velocity="0" />
  </joint>
  <link
    name="RL5">
    <inertial>
      <origin
        xyz="1.27626266444025E-07 4.24790160313826E-06 -0.557817319013973"
        rpy="0 0 0" />
      <mass
        value="436.427864998985" />
      <inertia
        ixx="58.7367826434384"
        ixy="0.000341396061247056"
        ixz="4.56285275999694E-05"
        iyy="58.7374588934677"
        iyz="0.000628375299781489"
        izz="104.578444128481" />
    </inertial>
    <visual>
      <origin
        xyz="0 0 0"
        rpy="0 0 0" />
      <geometry>
        <mesh
          filename="package://forestry_description/meshes/RL5.STL" />
      </geometry>
      <material
        name="">
        <color
          rgba="0.698039215686274 0.698039215686274 0.698039215686274 1" />
      </material>
    </visual>
    <collision>
      <origin
        xyz="0 0 0"
        rpy="0 0 0" />
      <geometry>
        <mesh
          filename="package://forestry_description/meshes/RL5.STL" />
      </geometry>
    </collision>
  </link>
  <joint
    name="RLJ5"
    type="continuous">
    <origin
      xyz="0 0 -0.231"
      rpy="1.5708 0 0" />
    <parent
      link="RL4" />
    <child
      link="RL5" />
    <axis
      xyz="0 0 1" />
  </joint>
  <link
    name="RLB0">
    <inertial>
      <origin
        xyz="-0.0806347311700857 0.0873713905320295 -0.010000000000017"
        rpy="0 0 0" />
      <mass
        value="21.7247820620153" />
      <inertia
        ixx="0.192847221143694"
        ixy="0.000680393657359611"
        ixz="-3.49124079600806E-19"
        iyy="0.10723046509661"
        iyz="-1.44031369638629E-19"
        izz="0.29862936743617" />
    </inertial>
    <visual>
      <origin
        xyz="0 0 0"
        rpy="0 0 0" />
      <geometry>
        <mesh
          filename="package://forestry_description/meshes/RLB0.STL" />
      </geometry>
      <material
        name="">
        <color
          rgba="0.650980392156863 0.619607843137255 0.588235294117647 1" />
      </material>
    </visual>
    <collision>
      <origin
        xyz="0 0 0"
        rpy="0 0 0" />
      <geometry>
        <mesh
          filename="package://forestry_description/meshes/RLB0.STL" />
      </geometry>
    </collision>
  </link>
  <joint
    name="RLBJ0"
    type="revolute">
    <origin
      xyz="-1.4 0 0.0115"
      rpy="0 0 0" />
    <parent
      link="RL2" />
    <child
      link="RLB0" />
    <axis
      xyz="0 0 -1" /> 
    <limit
      lower="-3.141592"
      upper="3.141592"
      effort="0"
      velocity="0" />
    <mimic
      joint="RLJ2"
      multiplier="1"
      offset="0" />
  </joint>
  <link
    name="RLB2">
    <inertial>
      <origin
        xyz="-3.99680288865056E-15 2.15105711021124E-15 -0.00878957266543112"
        rpy="0 0 0" />
      <mass
        value="1.79252951740625" />
      <inertia
        ixx="0.00072944465306636"
        ixy="1.32696300079413E-19"
        ixz="1.45463286235568E-20"
        iyy="0.00072944465306636"
        iyz="1.16138449218761E-20"
        izz="0.00112765869619503" />
    </inertial>
    <visual>
      <origin
        xyz="0 0 0"
        rpy="0 0 0" />
      <geometry>
        <mesh
          filename="package://forestry_description/meshes/RLB2.STL" />
      </geometry>
      <material
        name="">
        <color
          rgba="0.650980392156863 0.619607843137255 0.588235294117647 1" />
      </material>
    </visual>
    <collision>
      <origin
        xyz="0 0 0"
        rpy="0 0 0" />
      <geometry>
        <mesh
          filename="package://forestry_description/meshes/RLB2.STL" />
      </geometry>
    </collision>
  </link>
  <joint
    name="RLBJ2"
    type="revolute">
    <origin
      xyz="-0.18 0 -0.0012104"
      rpy="0 0 0" />
    <parent
      link="RLB0" />
    <child
      link="RLB2" />
    <axis
      xyz="0 0 1" /> 
    <limit
      lower="-3.141592"
      upper="3.141592"
      effort="0"
      velocity="0" />
    <mimic
      joint="RLJ2"
      multiplier="1"
      offset="0" />
  </joint>
  <link
    name="RLB3">
    <inertial>
      <origin
        xyz="-1.28785870856518E-14 -0.532590958718293 -0.00878957266543046"
        rpy="0 0 0" />
      <mass
        value="3.50323706641283" />
      <inertia
        ixx="0.330577290856633"
        ixy="-3.27429056090624E-17"
        ixz="-1.45238383624762E-18"
        iyy="0.00622995155935606"
        iyz="-1.16059395641601E-17"
        izz="0.336710465944545" />
    </inertial>
    <visual>
      <origin
        xyz="0 0 0"
        rpy="0 0 0" />
      <geometry>
        <mesh
          filename="package://forestry_description/meshes/RLB3.STL" />
      </geometry>
      <material
        name="">
        <color
          rgba="0.792156862745098 0.819607843137255 0.933333333333333 1" />
      </material>
    </visual>
    <collision>
      <origin
        xyz="0 0 0"
        rpy="0 0 0" />
      <geometry>
        <mesh
          filename="package://forestry_description/meshes/RLB3.STL" />
      </geometry>
    </collision>
  </link>
  <joint
    name="RLBJ3"
    type="revolute">
    <origin
      xyz="0 0 0"
      rpy="0 0 0" />
    <parent
      link="RLB2" />
    <child
      link="RLB3" />
    <axis
      xyz="0 0 1" /> 
    <limit
      lower="-3.141592"
      upper="3.141592"
      effort="0"
      velocity="0" />
    <mimic
      joint="RLJ3"
      multiplier="1"
      offset="0" />
  </joint>
  <link
    name="RLB1">
    <inertial>
      <origin
        xyz="-0.700000000000003 1.27675647831893E-15 0.00100000000000289"
        rpy="0 0 0" />
      <mass
        value="3.64822195764986" />
      <inertia
        ixx="0.00344957432771757"
        ixy="-3.48417254124996E-19"
        ixz="-5.63402337306813E-20"
        iyy="0.56426991187024"
        iyz="5.63087562739449E-21"
        izz="0.567581904124655" />
    </inertial>
    <visual>
      <origin
        xyz="0 0 0"
        rpy="0 0 0" />
      <geometry>
        <mesh
          filename="package://forestry_description/meshes/RLB1.STL" />
      </geometry>
      <material
        name="">
        <color
          rgba="0.792156862745098 0.819607843137255 0.933333333333333 1" />
      </material>
    </visual>
    <collision>
      <origin
        xyz="0 0 0"
        rpy="0 0 0" />
      <geometry>
        <mesh
          filename="package://forestry_description/meshes/RLB1.STL" />
      </geometry>
    </collision>
  </link>
  <joint
    name="RLBJ1"
    type="revolute">
    <origin
      xyz="-0.38 0.001 0.14"
      rpy="1.5708 0 0" />
    <parent
      link="RL1" />
    <child
      link="RLB1" />
    <axis
      xyz="0 0 1" /> 
    <limit
      lower="-3.141592"
      upper="3.141592"
      effort="0"
      velocity="0" />
    <mimic
      joint="RLJ2"
      multiplier="1"
      offset="0" />
  </joint>
  
  <link
    name="base_Link_boom">
    <inertial>
      <origin
        xyz="3.7436 0.0045415 0.58232"
        rpy="0 0 0" />
      <mass
        value="582.98" />
      <inertia
        ixx="68.479"
        ixy="0"
        ixz="12.459"
        iyy="94.508"
        iyz="0"
        izz="143.22" />
    </inertial>
    <visual>
      <origin
        xyz="0 0 0"
        rpy="0 0 0" />
      <geometry>
        <mesh
          filename="package://forestry_description/meshes/base_Link_boom.STL" />
      </geometry>
      <material
        name="">
        <color
          rgba="0.79216 0.81961 0.93333 1" />
      </material>
    </visual>
    <collision>
      <origin
        xyz="0 0 0"
        rpy="0 0 0" />
      <geometry>
        <mesh
          filename="package://forestry_description/meshes/base_Link_boom.STL" />
      </geometry>
    </collision>
  </link>

  <joint
    name="base_Link_boom"
    type="fixed">
    <origin
      xyz="0.455 0 0.620"
      rpy="0 0 0" />
    <parent
      link="base_link" />
    <child
      link="base_Link_boom" />
    <axis
      xyz="0 0 0" />
  </joint>

  <!-- <joint
    name="tool"
    type="revolute">
    <origin
      xyz="-0.145 0 -0.978"
      rpy="0 0 0" />
    <parent
      link="tool_s_Link" />
    <child
      link="tool_Link" />
    <axis
      xyz="0 -1 0" />
    <limit
      lower="0"
      upper="0"
      effort="0"
      velocity="0" />
  </joint> -->
  <link
    name="turntable_Link">
    <inertial>
      <origin
        xyz="3.7436 0.0045415 0.46432"
        rpy="0 0 0" />
      <mass
        value="602.5915" />
      <inertia
        ixx="196.8135"
        ixy="3.1036"
        ixz="-25.5351"
        iyy="232.4515"
        iyz="-0.1026"
        izz="192.3247" />
    </inertial>
    <visual>
      <origin
        xyz="0 0 0"
        rpy="0 0 0" />
      <geometry>
        <mesh
          filename="package://forestry_description/meshes/turntable_Link.STL" />
      </geometry>
      <material
        name="">
        <color
          rgba="0.79216 0.81961 0.93333 1" />
      </material>
    </visual>
    <collision>
      <origin
        xyz="0 0 0"
        rpy="0 0 0" />
      <geometry>
        <mesh
          filename="package://forestry_description/meshes/turntable_Link.STL" />
      </geometry>
    </collision>
  </link>
  <joint
    name="turntable"
    type="revolute">
    <origin
      xyz="0 0 0.118"
      rpy="0 0 0" />
    <parent
      link="base_Link_boom" />
    <child
      link="turntable_Link" />
    <axis
      xyz="0 0 -1" />
    <limit
      lower="-3.14"
      upper="3.14"
      effort="10"
      velocity="10" />
  </joint>
  <link
    name="boom_Link">
    <inertial>
      <origin
        xyz="3.7431 0.026627 0.21887"
        rpy="0 0 0" />
      <mass
        value="713.4753" />
      <inertia
        ixx="1272.3217"
        ixy="0.4327"
        ixz="2254.625"
        iyy="6416.999"
        iyz="0.2628"
        izz="5263.7763" />
    </inertial>
    <visual>
      <origin
        xyz="0 0 0"
        rpy="0 0 0" />
      <geometry>
        <mesh
          filename="package://forestry_description/meshes/boom_Link.STL" />
      </geometry>
      <material
        name="">
        <color
          rgba="0.79216 0.81961 0.93333 1" />
      </material>
    </visual>
    <collision>
      <origin
        xyz="0 0 0"
        rpy="0 0 0" />
      <geometry>
        <mesh
          filename="package://forestry_description/meshes/boom_Link.STL" />
      </geometry>
    </collision>
  </link>
  <joint
    name="boom"
    type="revolute">
    <origin
      xyz="-0.179 0 0.258"
      rpy="0 0 0" />
    <parent
      link="turntable_Link" />
    <child
      link="boom_Link" />
    <axis
      xyz="0 -1 0" />
    <limit
      lower="-3.14"
      upper="3.14"
      effort="0"
      velocity="0" />
  </joint>
  <link
    name="s_boom_Link">
    <inertial>
      <origin
        xyz="-0.7698 0.026627 -1.1446"
        rpy="0 0 0" />
      <mass
        value="243.6889" />
      <inertia
        ixx="23.6401"
        ixy="1.0038"
        ixz="49.4302"
        iyy="278.0877"
        iyz="0.3388"
        izz="259.8962" />
    </inertial>
    <visual>
      <origin
        xyz="0 0 0"
        rpy="0 0 0" />
      <geometry>
        <mesh
          filename="package://forestry_description/meshes/s_boom_Link.STL" />
      </geometry>
      <material
        name="">
        <color
          rgba="0.79216 0.81961 0.93333 1" />
      </material>
    </visual>
    <collision>
      <origin
        xyz="0 0 0"
        rpy="0 0 0" />
      <geometry>
        <mesh
          filename="package://forestry_description/meshes/s_boom_Link.STL" />
      </geometry>
    </collision>
  </link>
  <joint
    name="s_boom"
    type="revolute">
    <origin
      xyz="4.7 0 1.2124"
      rpy="0 0.17453 0" />
    <parent
      link="boom_Link" />
    <child
      link="s_boom_Link" />
    <axis
      xyz="0 -1 0" />
    <limit
      lower="-3.14"
      upper="3.14"
      effort="0"
      velocity="0" />
  </joint>
  <link
    name="s_arm_Link">
    <inertial>
      <origin
        xyz="-2.8546 0.026627 -1.4346"
        rpy="0 0 0" />
      <mass
        value="262.1029" />
      <inertia
        ixx="3.4831"
        ixy="0.9088"
        ixz="-0.7374"
        iyy="626.3383"
        iyz="-0.0004"
        izz="626.0282" />
    </inertial>
    <visual>
      <origin
        xyz="0 0 0"
        rpy="0 0 0" />
      <geometry>
        <mesh
          filename="package://forestry_description/meshes/s_arm_Link.STL" />
      </geometry>
      <material
        name="">
        <color
          rgba="0.79216 0.81961 0.93333 1" />
      </material>
    </visual>
    <collision>
      <origin
        xyz="0 0 0"
        rpy="0 0 0" />
      <geometry>
        <mesh
          filename="package://forestry_description/meshes/s_arm_Link.STL" />
      </geometry>
    </collision>
  </link>
  <joint
    name="s_arm"
    type="prismatic">
    <origin
      xyz="2.0848 0 0.29"
      rpy="0 0 0" />
    <parent
      link="s_boom_Link" />
    <child
      link="s_arm_Link" />
    <axis
      xyz="-1 0 0" />
    <limit
      lower="-3.14"
      upper="3.14"
      effort="0"
      velocity="0" />
  </joint>
  <link
    name="d_joint1_Link">
    <inertial>
      <origin
        xyz="-5.41 0.026127 -0.42159"
        rpy="0 0 0" />
      <mass
        value="7.9283" />
      <inertia
        ixx="0.0654"
        ixy="0"
        ixz="-0.0004"
        iyy="0.0683"
        iyz="0"
        izz="0.0098" />
    </inertial>
    <visual>
      <origin
        xyz="0 0 0"
        rpy="0 0 0" />
      <geometry>
        <mesh
          filename="package://forestry_description/meshes/d_joint1_Link.STL" />
      </geometry>
      <material
        name="">
        <color
          rgba="0.79216 0.81961 0.93333 1" />
      </material>
    </visual>
    <collision>
      <origin
        xyz="0 0 0"
        rpy="0 0 0" />
      <geometry>
        <mesh
          filename="package://forestry_description/meshes/d_joint1_Link.STL" />
      </geometry>
    </collision>
  </link>
  <joint
    name="d_joint1"
    type="revolute">
    <origin
      xyz="2.4 0.0005 -0.08"
      rpy="0 -0.17453 0" />
    <parent
      link="s_arm_Link" />
    <child
      link="d_joint1_Link" />
    <axis
      xyz="0 -1 0" />
    <limit
      lower="0"
      upper="0"
      effort="0"
      velocity="0" />
  </joint>
  <link
    name="d_joint2_Link">
    <inertial>
      <origin
        xyz="-5.41 0.026127 -0.30159"
        rpy="0 0 0" />
      <mass
        value="12.4463" />
      <inertia
        ixx="0.1667"
        ixy="0"
        ixz="0"
        iyy="0.1682"
        iyz="0"
        izz="0.0278" />
    </inertial>
    <visual>
      <origin
        xyz="0 0 0"
        rpy="0 0 0" />
      <geometry>
        <mesh
          filename="package://forestry_description/meshes/d_joint2_Link.STL" />
      </geometry>
      <material
        name="">
        <color
          rgba="0.79216 0.81961 0.93333 1" />
      </material>
    </visual>
    <collision>
      <origin
        xyz="0 0 0"
        rpy="0 0 0" />
      <geometry>
        <mesh
          filename="package://forestry_description/meshes/d_joint2_Link.STL" />
      </geometry>
    </collision>
  </link>
  <joint
    name="d_joint2"
    type="revolute">
    <origin
      xyz="0 0 -0.12"
      rpy="0 0 0" />
    <parent
      link="d_joint1_Link" />
    <child
      link="d_joint2_Link" />
    <axis
      xyz="-1 0 0" />
    <limit
      lower="0"
      upper="0"
      effort="0"
      velocity="0" />
  </joint>
  <link
    name="tool_s_Link">
    <inertial>
      <origin
        xyz="-5.41 0.026127 -0.13559"
        rpy="0 0 0" />
      <mass
        value="34.0794" />
      <inertia
        ixx="11.2534"
        ixy="-0.0288"
        ixz="1.9823"
        iyy="8.1593"
        iyz="-0.1001"
        izz="4.3527" />
    </inertial>
    <visual>
      <origin
        xyz="0 0 0"
        rpy="0 0 0" />
      <geometry>
        <mesh
          filename="package://forestry_description/meshes/tool_s_Link.STL" />
      </geometry>
      <material
        name="">
        <color
          rgba="0.79216 0.81961 0.93333 1" />
      </material>
    </visual>
    <collision>
      <origin
        xyz="0 0 0"
        rpy="0 0 0" />
      <geometry>
        <mesh
          filename="package://forestry_description/meshes/tool_s_Link.STL" />
      </geometry>
    </collision>
  </link>
  <joint
    name="tool_s"
    type="revolute">
    <origin
      xyz="0 0 -0.166"
      rpy="0 0 0" />
    <parent
      link="d_joint2_Link" />
    <child
      link="tool_s_Link" />
    <axis
      xyz="0 0 -1" />
    <limit
      lower="-3.14"
      upper="3.14"
      effort="0"
      velocity="0" />
  </joint>
  <link
    name="tool_Link">
    <inertial>
      <origin
        xyz="-5.265 0.026125 0.84241"
        rpy="0 0 0" />
      <mass
        value="764.7241" />
      <inertia
        ixx="21.2398"
        ixy="11.1267"
        ixz="-16.9245"
        iyy="355.0577"
        iyz="-12.1279"
        izz="358.2286" />
    </inertial>
    <visual>
      <origin
        xyz="0 0 0"
        rpy="0 0 0" />
      <geometry>
        <mesh
          filename="package://forestry_description/meshes/tool_Link.STL" />
      </geometry>
      <material
        name="">
        <color
          rgba="0.79216 0.81961 0.93333 1" />
      </material>
    </visual>
    <collision>
      <origin
        xyz="0 0 0"
        rpy="0 0 0" />
      <geometry>
        <mesh
          filename="package://forestry_description/meshes/tool_Link.STL" />
      </geometry>
    </collision>
  </link>
  <joint
    name="tool"
    type="revolute">
    <origin
      xyz="-0.145 0 -0.978"
      rpy="0 0 0" />
    <parent
      link="tool_s_Link" />
    <child
      link="tool_Link" />
    <axis
      xyz="0 -1 0" />
    <limit
      lower="-3.14"
      upper="3.14"
      effort="0"
      velocity="0" />
  </joint>
</robot>
